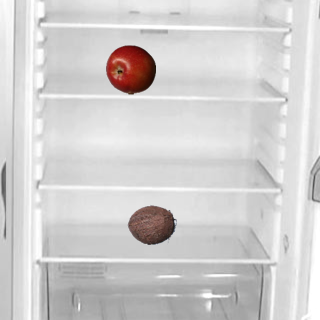Apple Braeburn: (105, 44, 155, 94)
Cocos: (126, 199, 176, 249)
